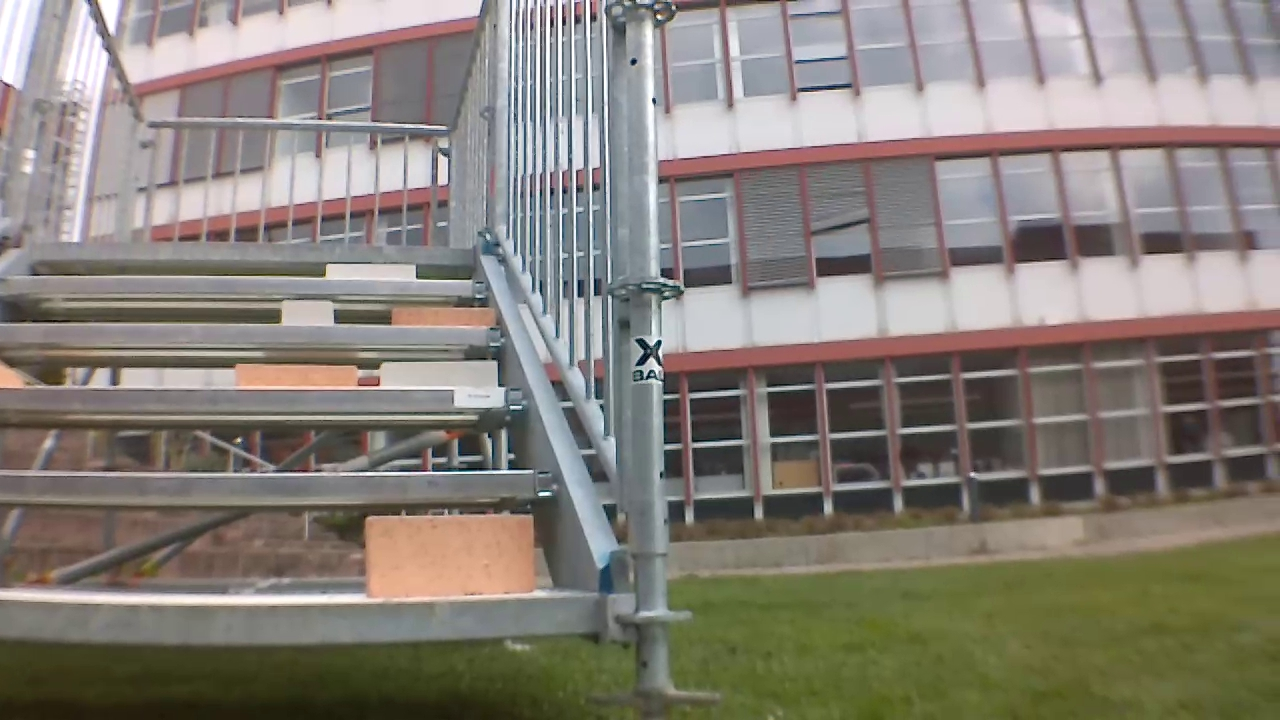brick: (360, 513, 536, 595), (379, 353, 506, 386), (219, 364, 362, 389), (332, 258, 414, 284), (391, 308, 488, 325), (277, 303, 329, 323)
edge: (0, 594, 600, 652), (0, 463, 564, 512), (0, 385, 539, 431), (11, 237, 486, 267), (0, 325, 514, 349), (0, 277, 485, 302)
stairs: (0, 0, 654, 702)
steps: (0, 239, 597, 651)
